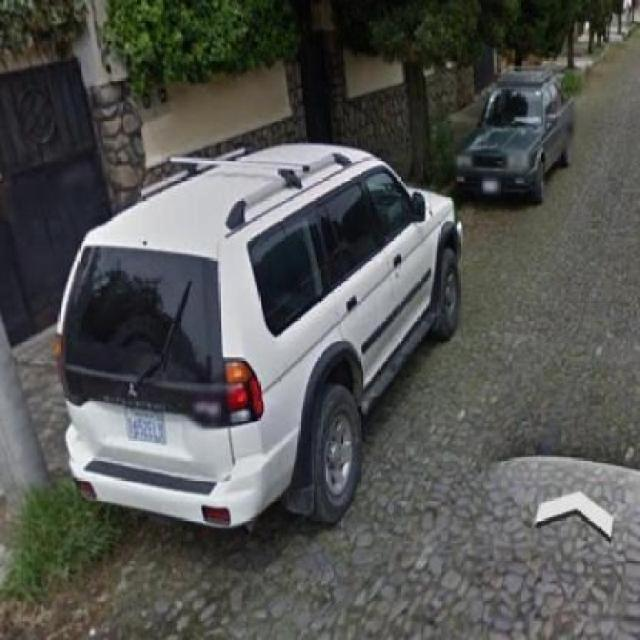car: (56, 172, 470, 552), (450, 67, 576, 204)
